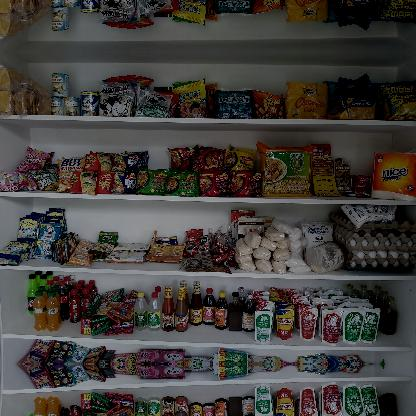Lady-s-Choice: (306, 240, 346, 274)
